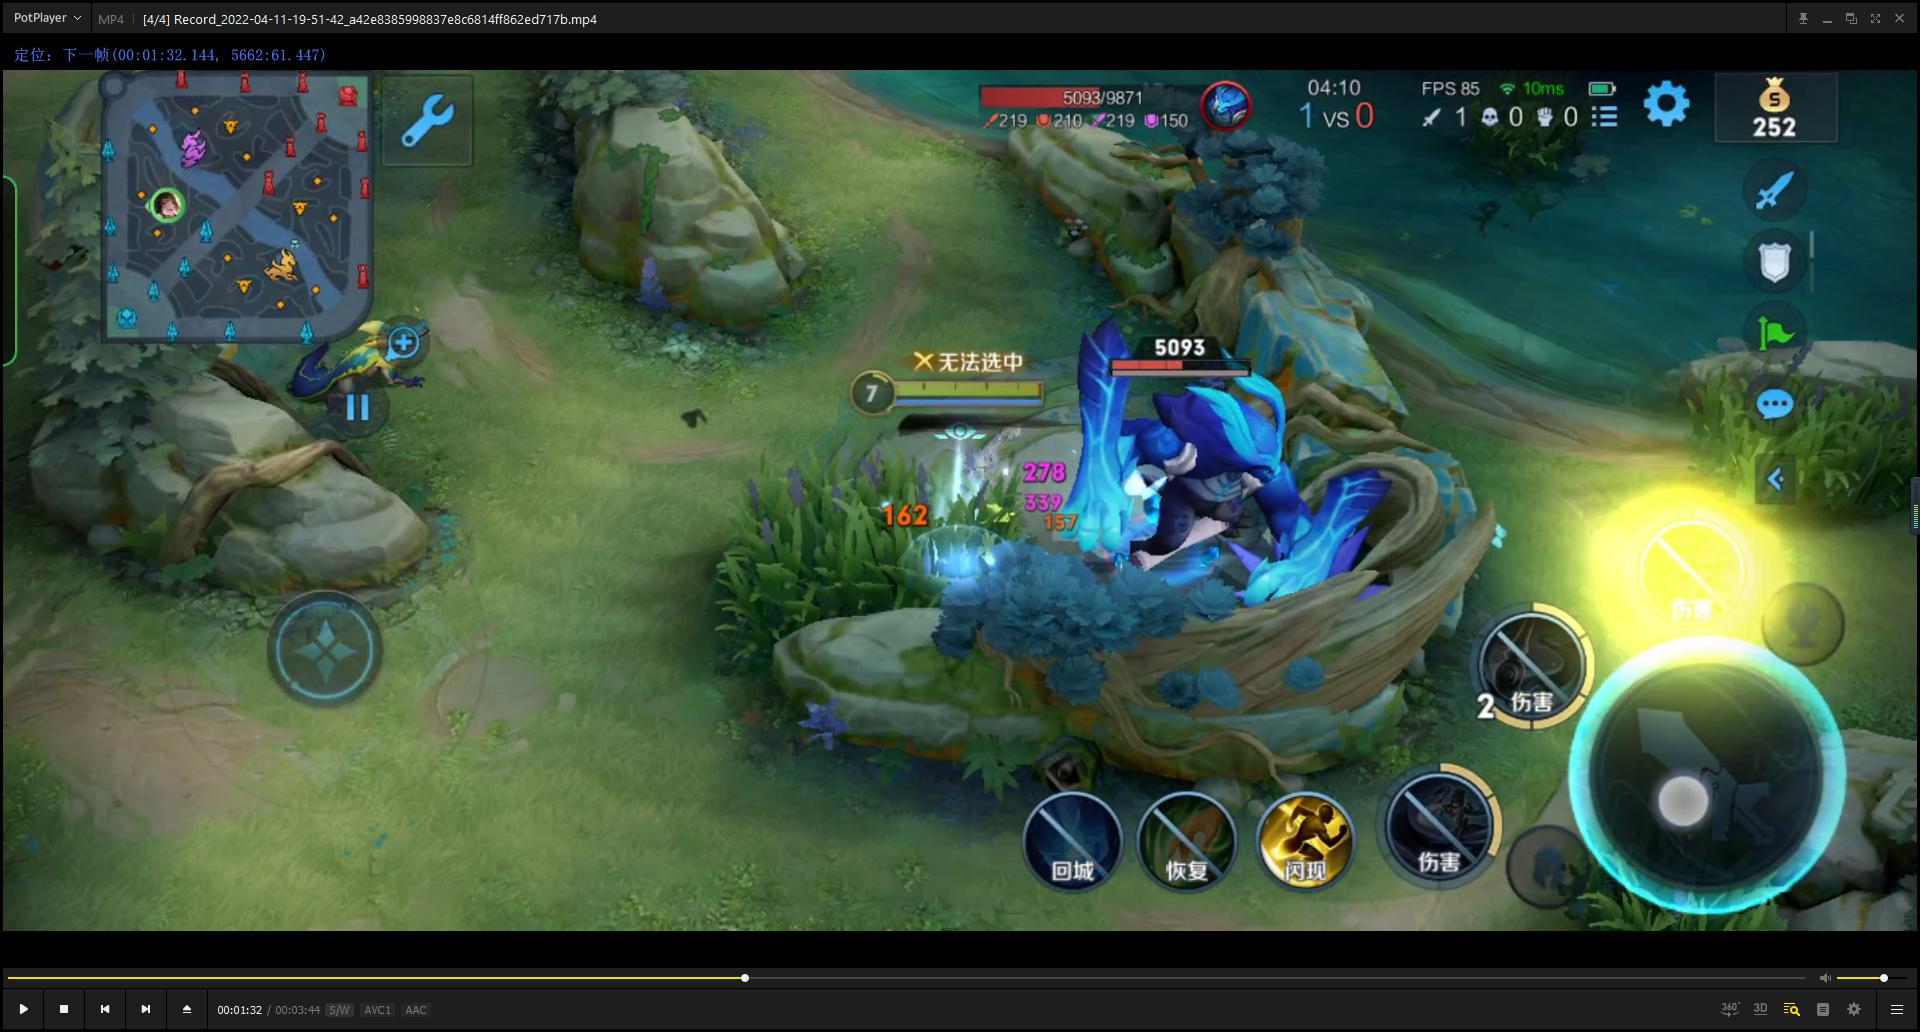Buff: (1024, 311, 1369, 641)
Hero: (869, 416, 1058, 591)
Lizard: (277, 295, 464, 407)
